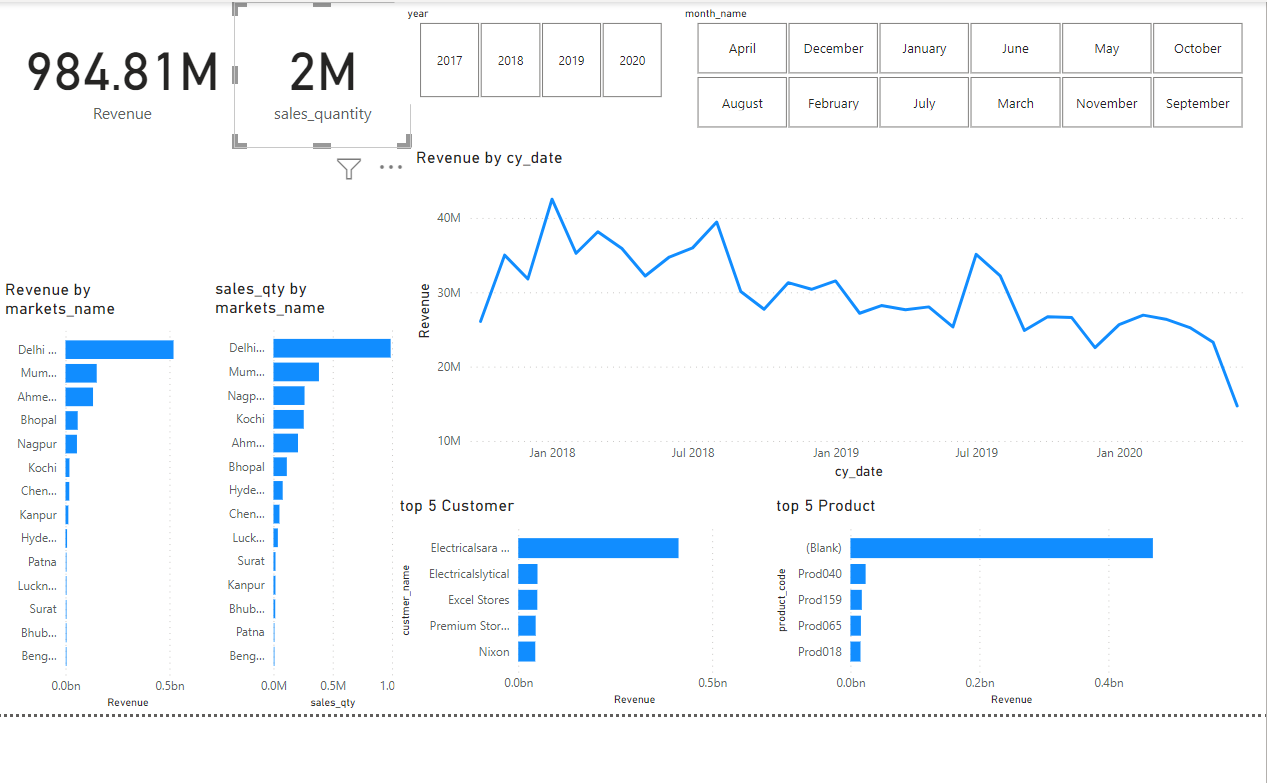

What the dashboard file says about the page in this screenshot:
{"tool":"powerbi","page":{"name":"Page 1","canvas":[1280,720],"ordinal":0},"visuals":[{"type":"card","fields":{"Values":["base_measures.Revenue"]},"box":[10.6,0,201.7,147.1],"z":0},{"type":"card","fields":{"Values":["base_measures.sales_quantity"]},"box":[212.3,0,203.2,147.1],"z":1},{"type":"barChart","fields":{"Y":["base_measures.Revenue"],"Category":["sales markets.markets_name"]},"box":[0,280.6,212.3,438.3],"z":2},{"type":"barChart","fields":{"Y":["Sum(sales transactions.sales_qty)"],"Category":["sales markets.markets_name"]},"box":[212.3,279.1,203.2,439.8],"z":3},{"type":"slicer","fields":{"Values":["sales date.year"]},"box":[398.9,0,294.2,103.1],"z":4},{"type":"slicer","fields":{"Values":["sales date.month_name"]},"box":[679.4,0,600.6,133.5],"z":5},{"type":"barChart","title":"top 5 Customer","fields":{"Y":["base_measures.Revenue"],"Category":["sales customers.custmer_name"]},"box":[398.9,499,380.7,216.9],"z":6},{"type":"barChart","title":"top 5 Product","fields":{"Y":["base_measures.Revenue"],"Category":["sales products.product_code"]},"box":[779.5,499,426.2,216.9],"z":7},{"type":"lineChart","fields":{"Y":["base_measures.Revenue"],"Category":["sales date.cy_date"]},"box":[415.5,147.1,864.5,339.7],"z":8}]}

Visuals, with their boxes on the page's 1280x720 design canvas (x1, y1, x2, y2). These are canvas units, not pixel positions in the 1267x783 screenshot, which may show the page scaled, cropped or inside an application window:
card - base_measures.Revenue: bbox=[11, 0, 212, 147]
card - base_measures.sales_quantity: bbox=[212, 0, 416, 147]
barChart - base_measures.Revenue x sales markets.markets_name: bbox=[0, 281, 212, 719]
barChart - Sum(sales transactions.sales_qty) x sales markets.markets_name: bbox=[212, 279, 416, 719]
slicer - sales date.year: bbox=[399, 0, 693, 103]
slicer - sales date.month_name: bbox=[679, 0, 1280, 134]
"top 5 Customer" barChart: bbox=[399, 499, 780, 716]
"top 5 Product" barChart: bbox=[780, 499, 1206, 716]
lineChart - base_measures.Revenue x sales date.cy_date: bbox=[416, 147, 1280, 487]
